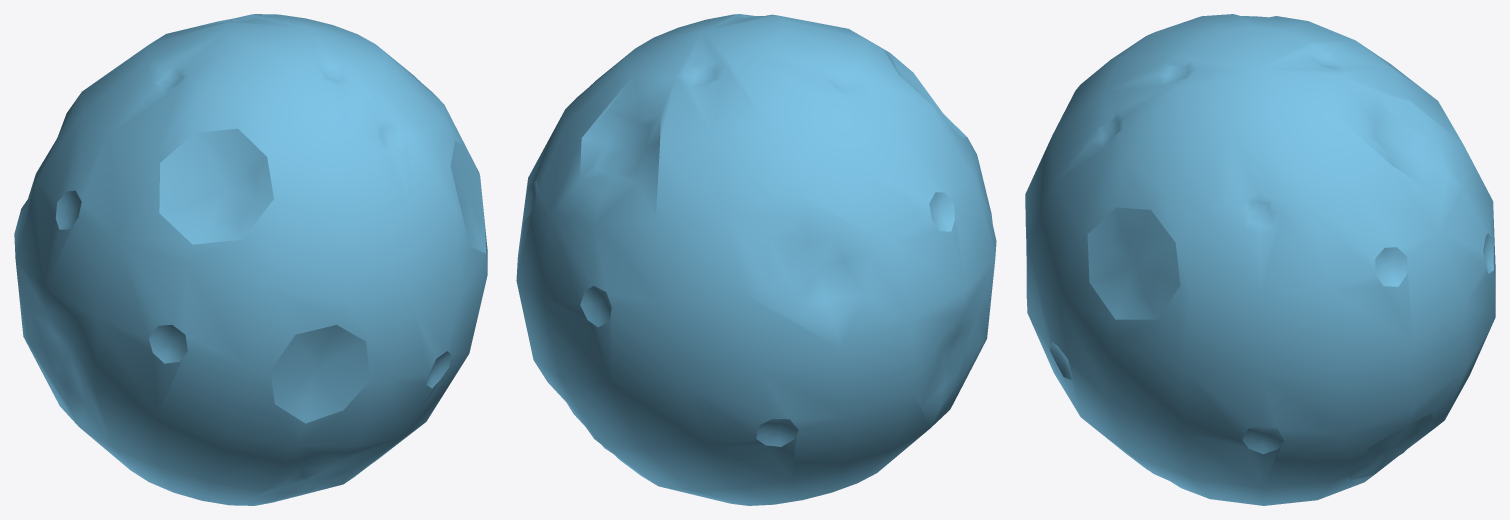
Rendered from Final_Moon.fbx.
The picture shows the model from 3 angles, left to right: view 1: azimuth 30°, elevation 25°; view 2: azimuth 150°, elevation 25°; view 3: azimuth 270°, elevation 25°; orthographic projection.
Parts seen in each view (by area): view 1: Sphere003; view 2: Sphere003; view 3: Sphere003.
Part boxes in pixels (left/top/right/bottom): Sphere003: left=14, top=14, right=487, bottom=505; Sphere003: left=516, top=14, right=996, bottom=505; Sphere003: left=1025, top=14, right=1495, bottom=505.
Bounding box in the file's own units: 763 × 780 × 743.
